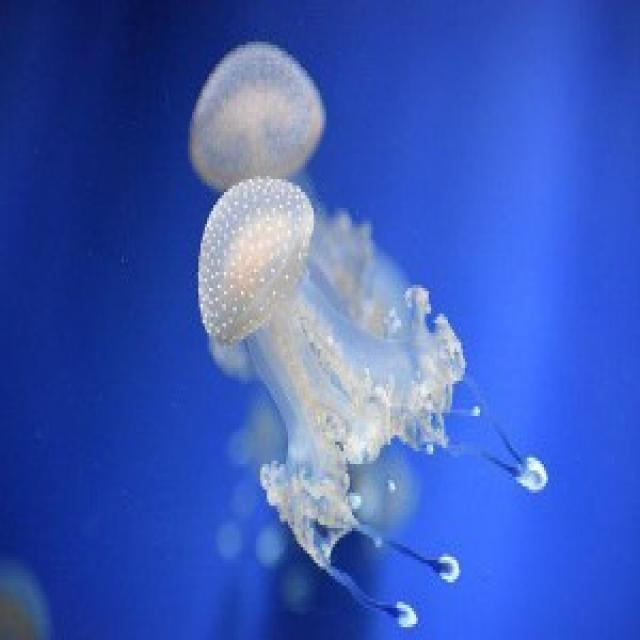Jellyfish: (200, 101, 441, 586), (195, 176, 442, 584), (183, 48, 363, 187)
